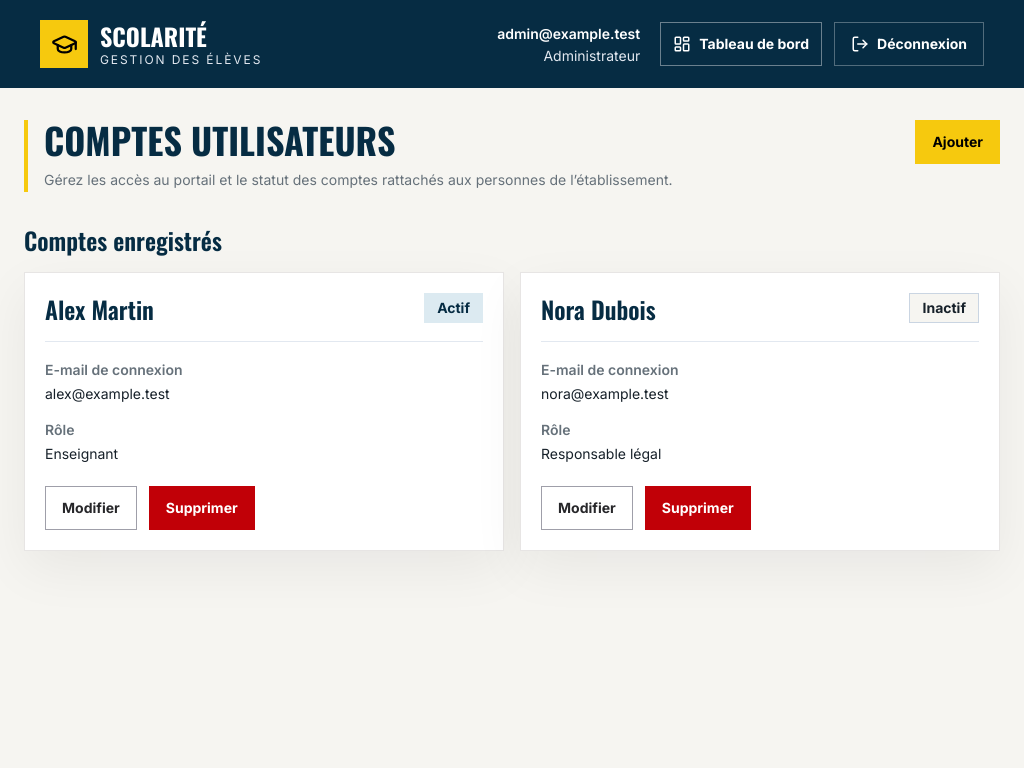
comptes utilisateurs › crée un compte avec les mêmes champs et le même rattachement numérique
The image size is (1024, 768).
Click the button "Ajouter": (958, 142) [915,120,1000,164]
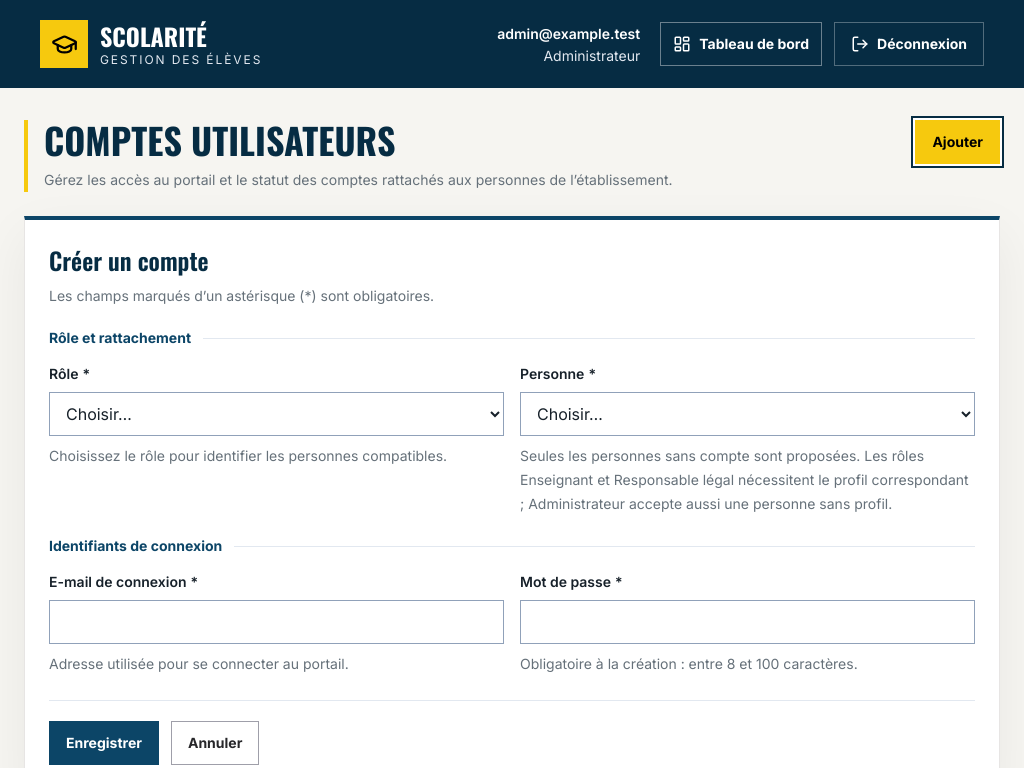
Select "Responsable légal" in the dropdown labelled "Rôle": (276, 414) [49,392,504,436]
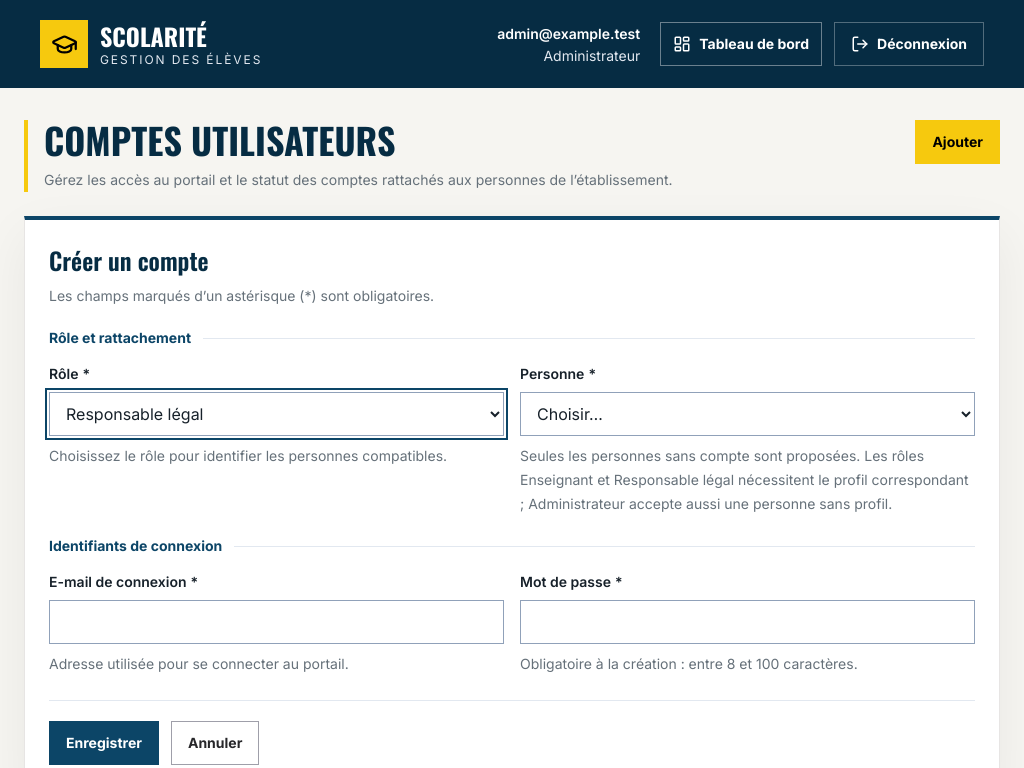
Select "Camille Durand · Enseignant · Responsable légal" in the dropdown labelled "Personne": (748, 414) [520,392,975,436]
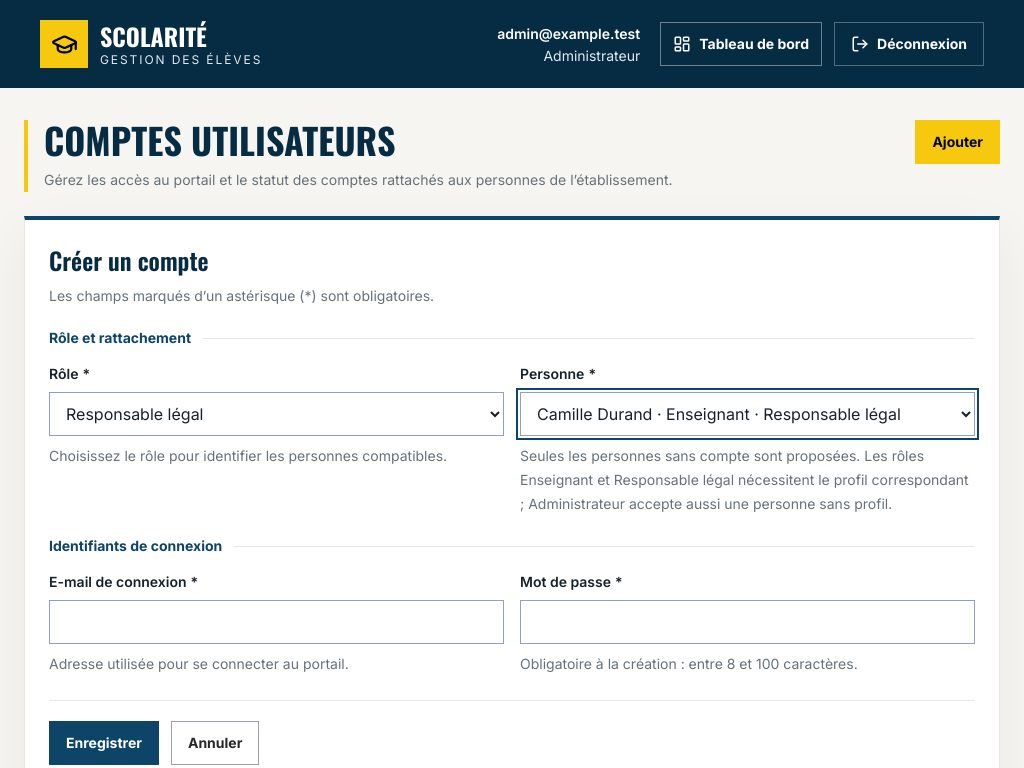
In the field labelled "E-mail de connexion": (276, 622) [49,600,504,644], type "camille@example.test"
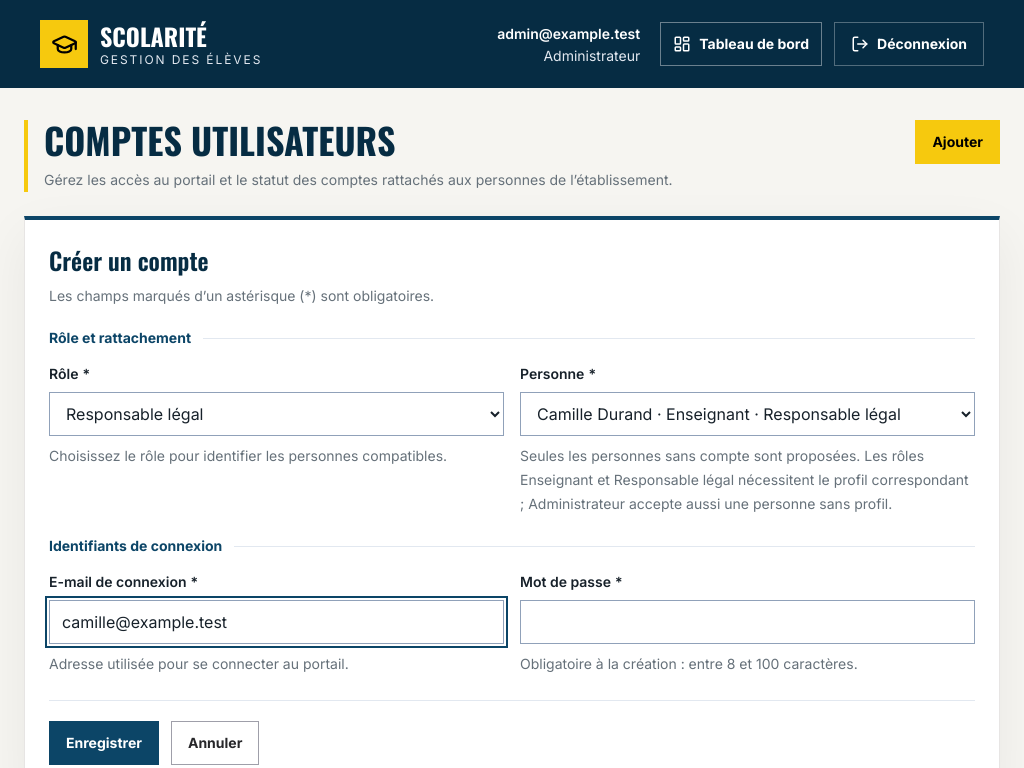
In the password field labelled "Mot de passe": (748, 622) [520,600,975,644], type "Nouveau123!"
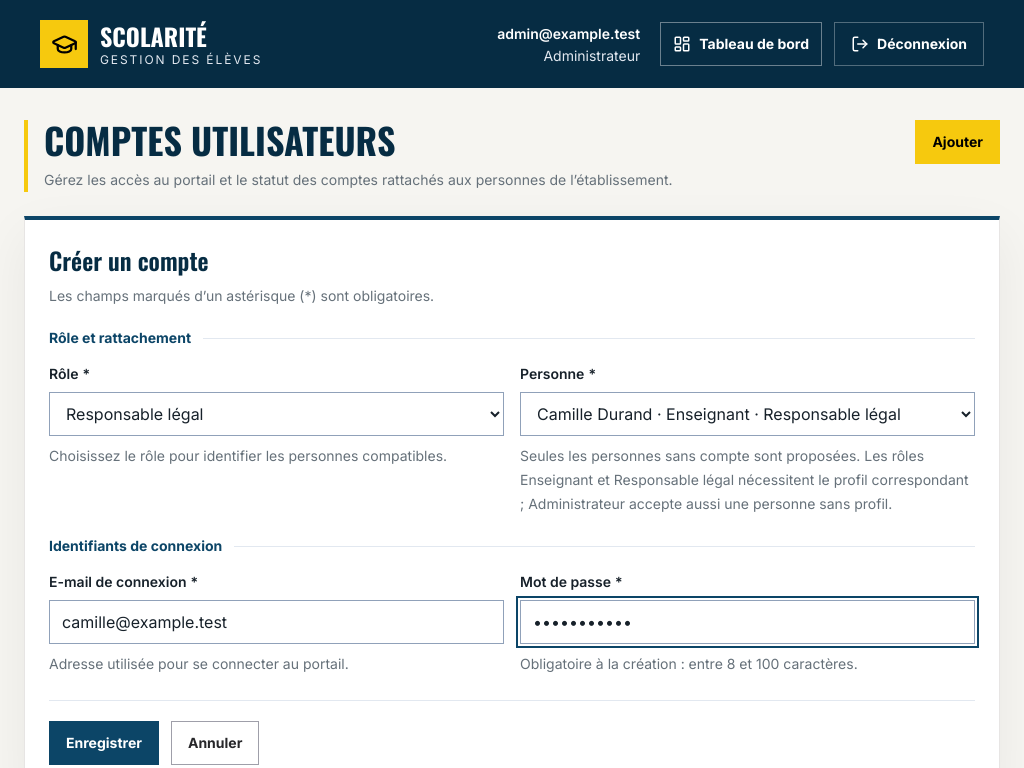
Click the button "Enregistrer": (104, 743) [49,721,159,765]
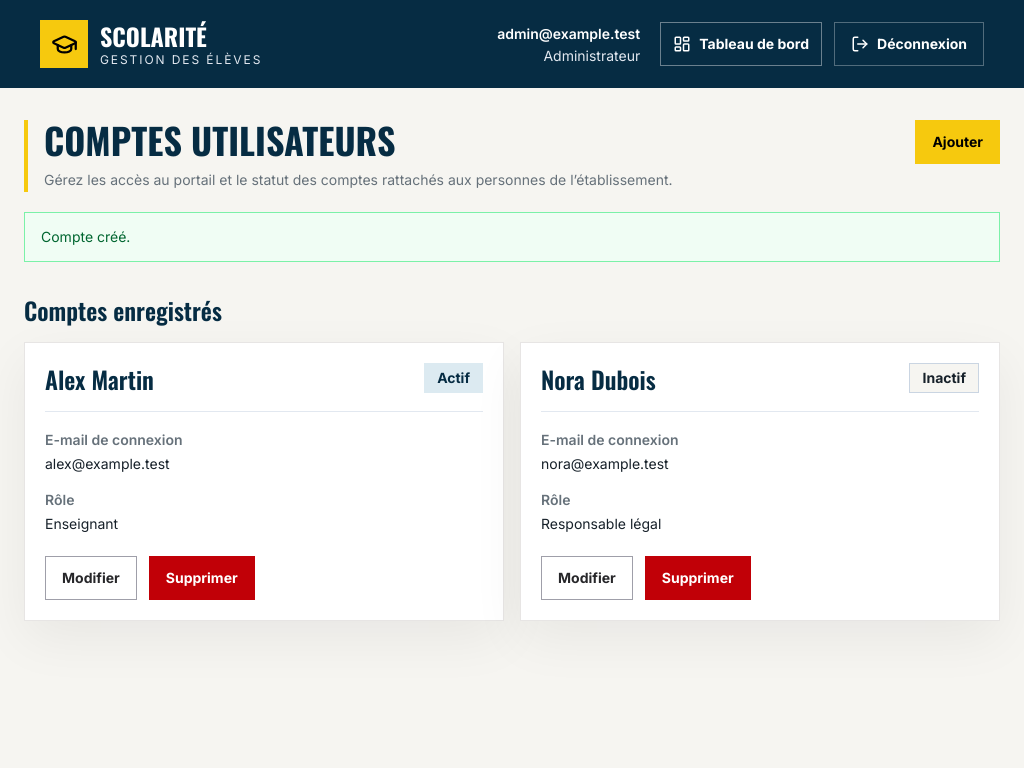
expect the text "Compte créé." is shown: met, box [24,212,1000,262]
